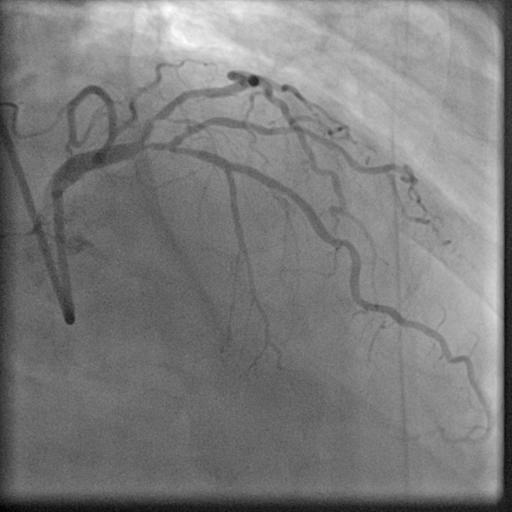Stenosis: (140, 110, 166, 124)
